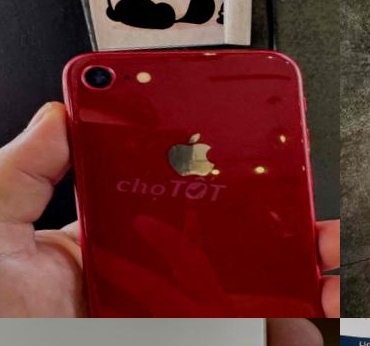scratch: (71, 55, 122, 94)
